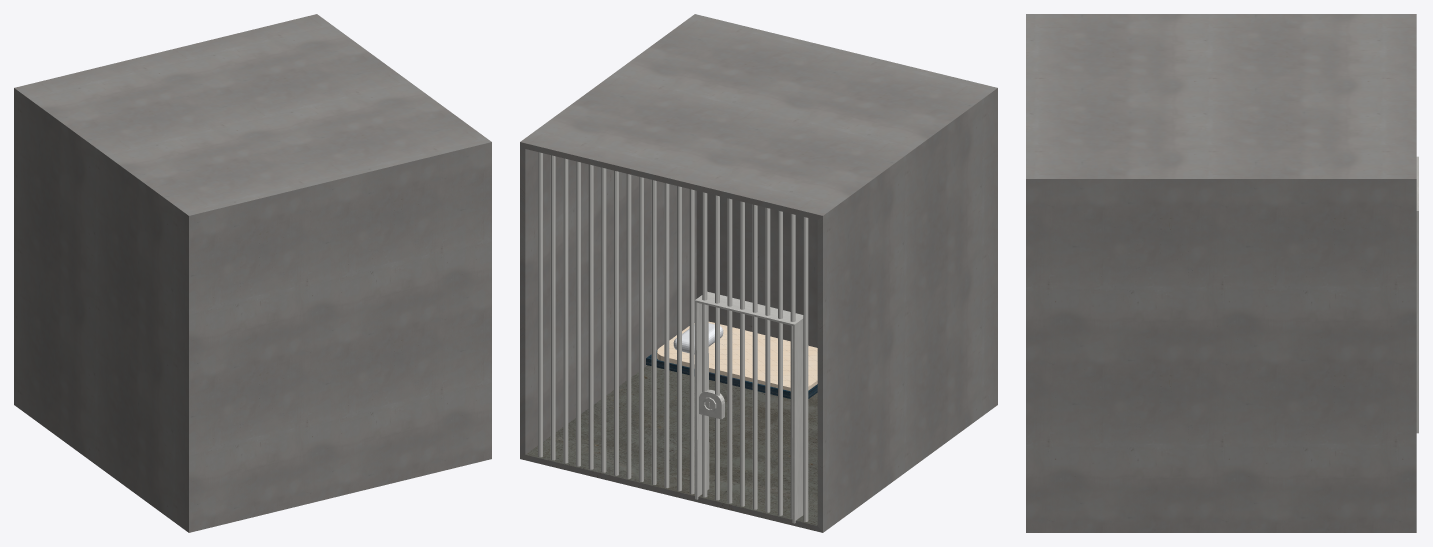
Rendered from Prisao.glb.
The picture shows the model from 3 angles, left to right: view 1: azimuth 30°, elevation 25°; view 2: azimuth 150°, elevation 25°; view 3: azimuth 270°, elevation 25°; orthographic projection. The views are drawn at different scales.
Parts seen in each view (by area): view 1: container cela; view 2: container cela, barras, porta, colchão, cama, tranca; view 3: container cela, porta.
Boxes of the visible parts, bbox=[...] form: container cela: bbox=[14, 14, 491, 532]; container cela: bbox=[520, 14, 997, 532]; barras: bbox=[538, 152, 808, 521]; porta: bbox=[695, 291, 803, 523]; colchão: bbox=[657, 321, 817, 391]; cama: bbox=[646, 350, 817, 398]; tranca: bbox=[699, 389, 724, 419]; container cela: bbox=[1026, 14, 1416, 532]; porta: bbox=[1416, 156, 1418, 433].
Bounding box in the file's own units: 6.02 × 6.02 × 6.06.
7 materials, 7 textured.
